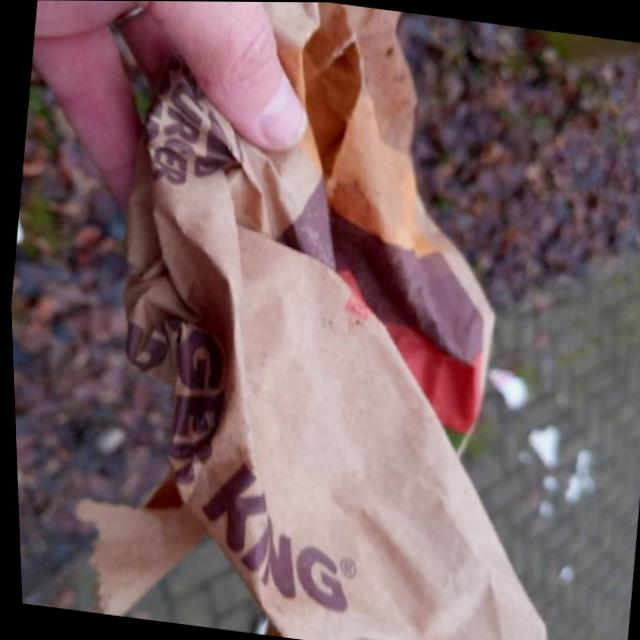Paper: (42, 0, 627, 640)
